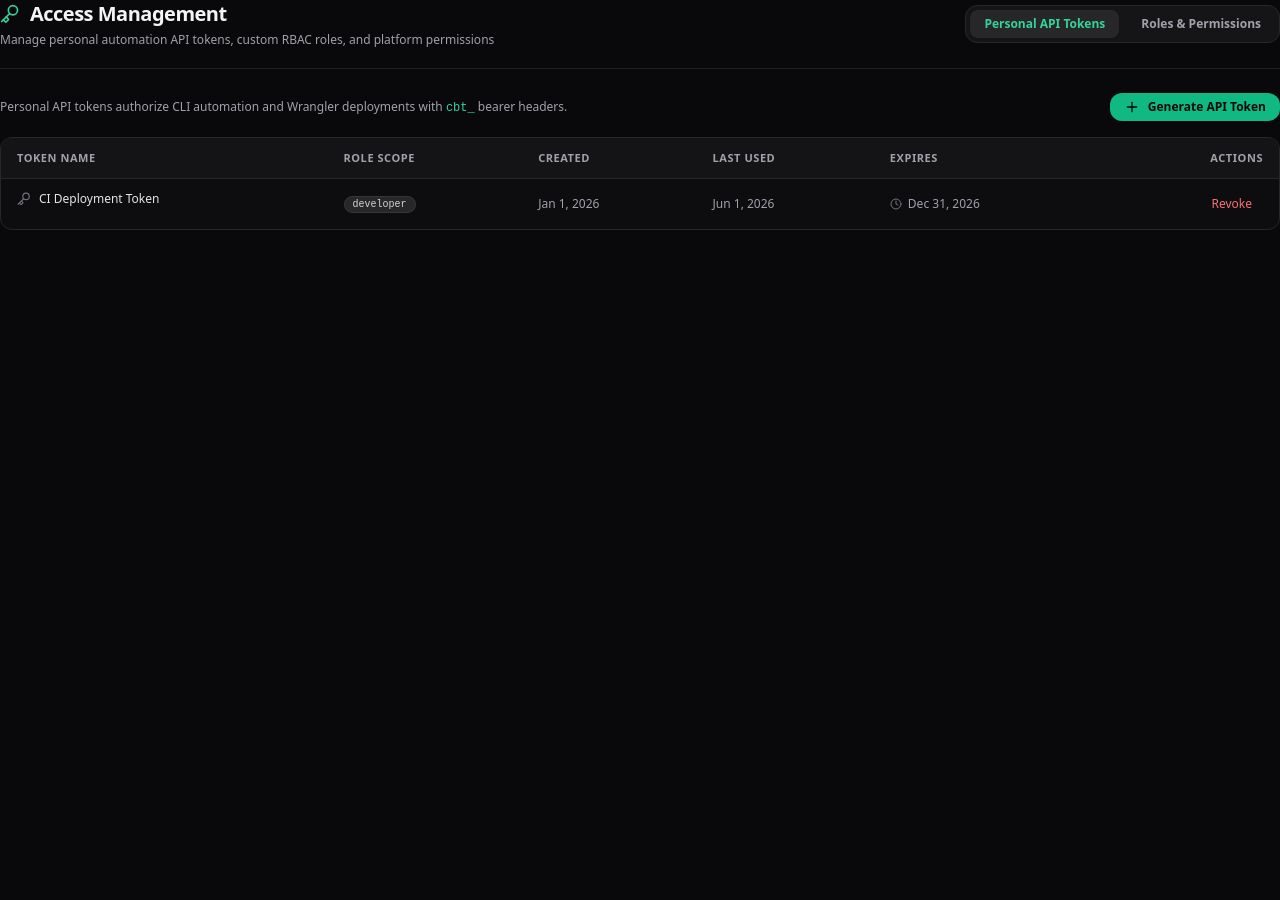
Test case: Given the AccessManagementView component › When viewing API Tokens tab › Then allows generating a new token and displays the plaintext token once
The width and height of the screenshot is (1280, 900).
Expected: the text "CI Deployment Token" is shown, [39, 191, 160, 207]
Click the button "Generate API Token" at point(1195, 107), box [1110, 93, 1279, 121]
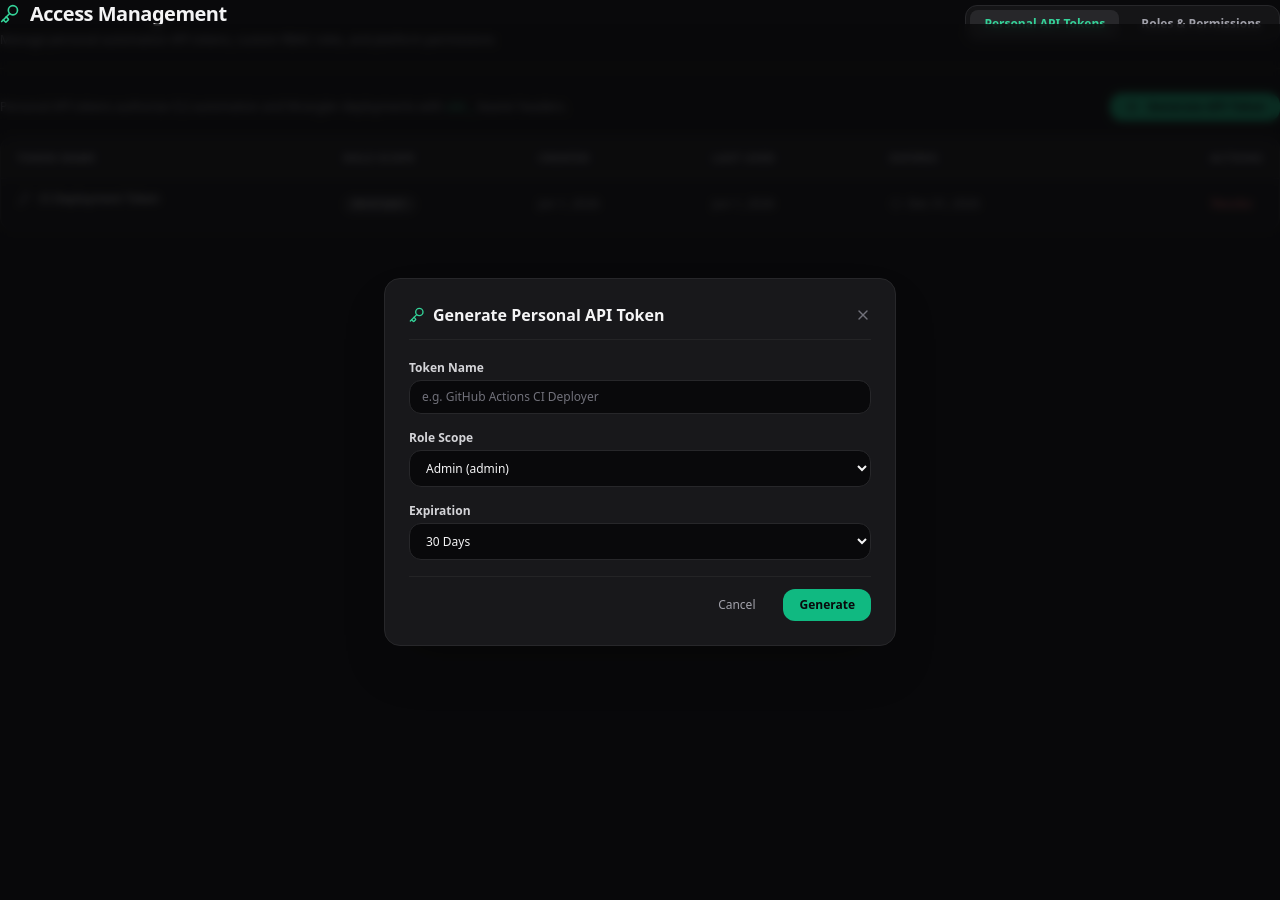
Now the field labelled "Token Name" is shown
Type "New Worker Token" into the field labelled "Token Name" at point(640, 397), box [409, 380, 871, 414]
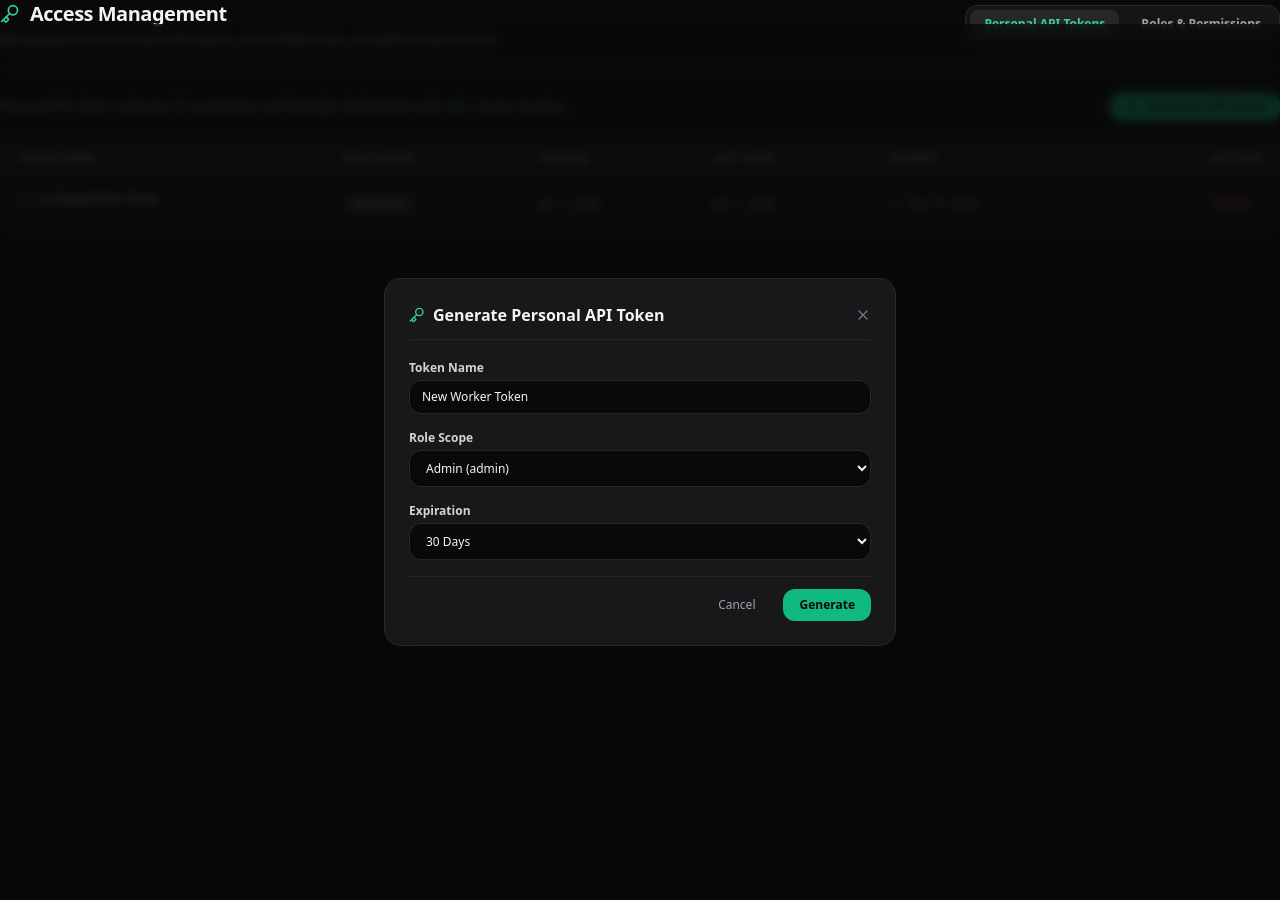
Click the button "Generate" at point(827, 605), box [784, 589, 871, 621]
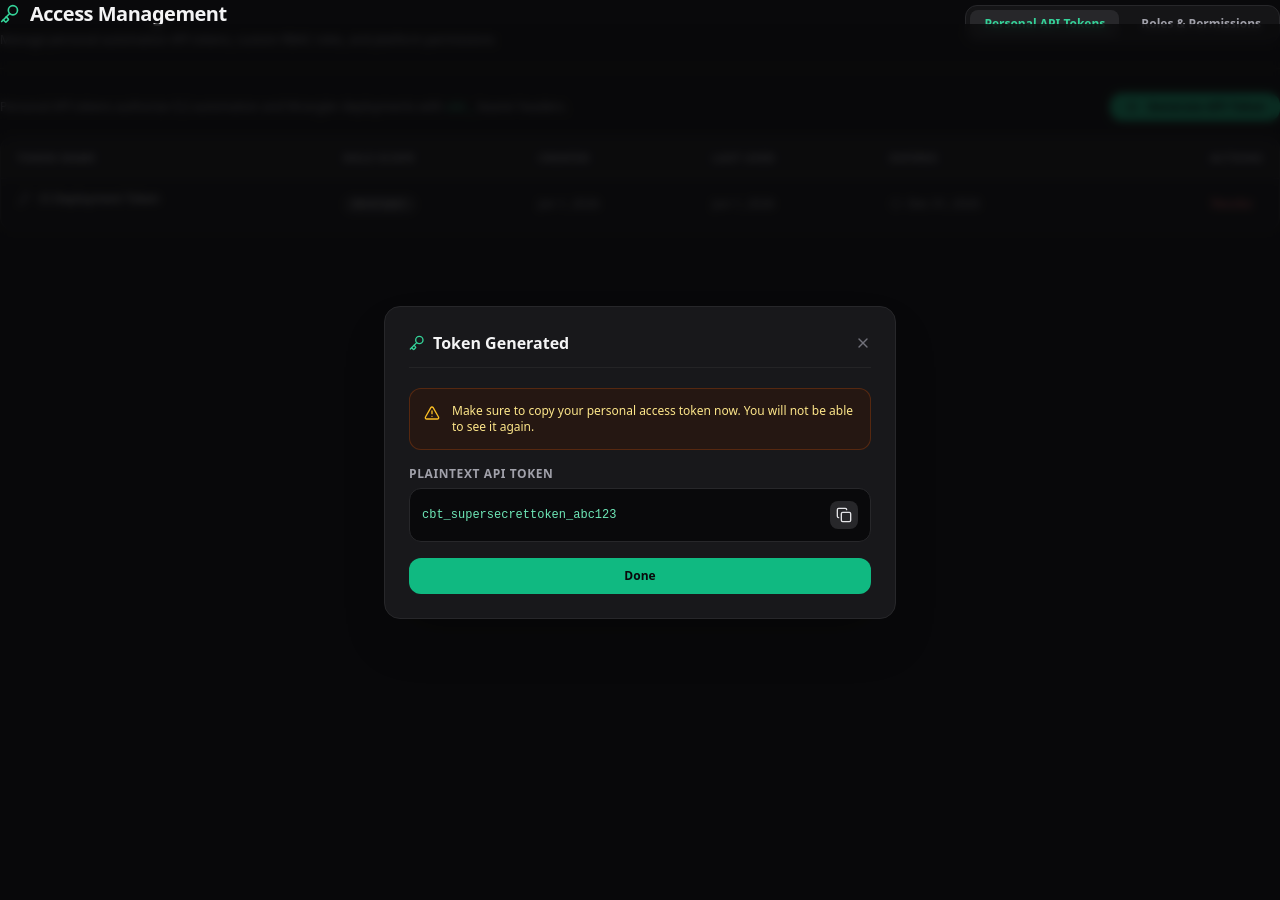
Now the text "cbt_supersecrettoken_abc123" is shown, box [422, 506, 616, 522]
Now the text "copy your personal access token now" is shown, box [452, 402, 853, 434]
